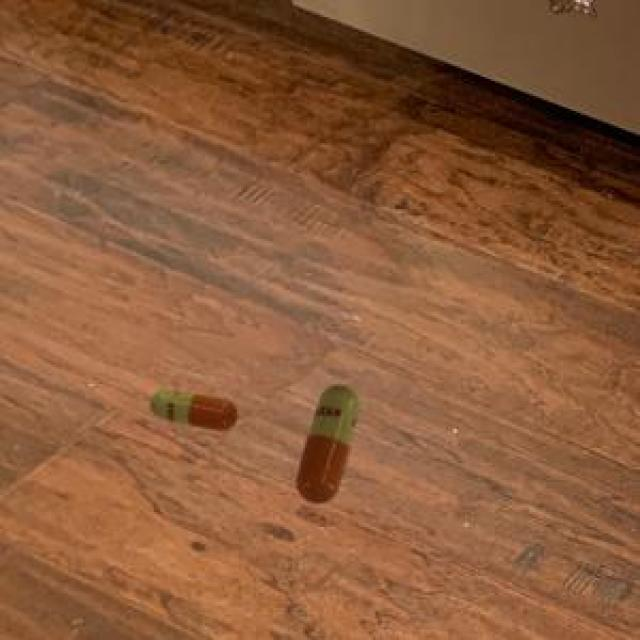Alaxan: (287, 361, 363, 519), (139, 375, 245, 443)
